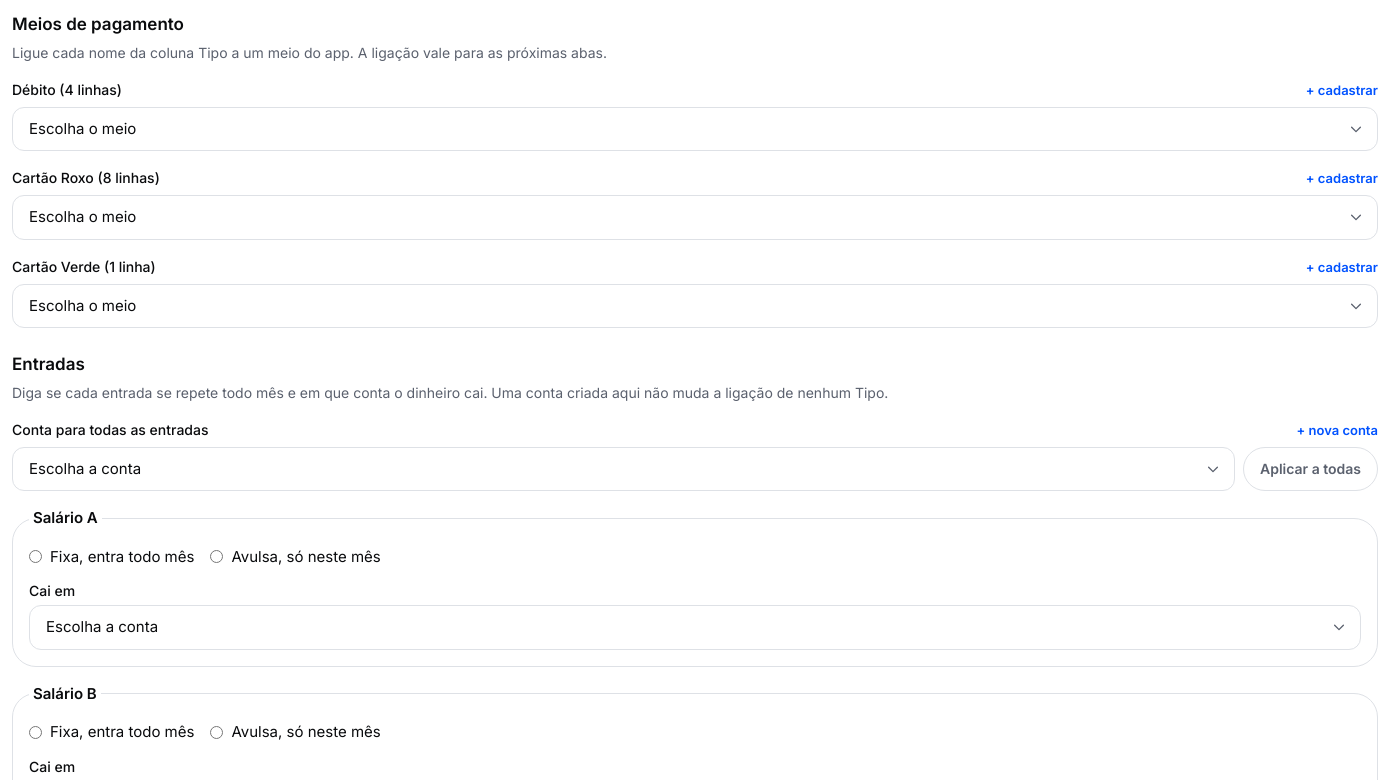
Test: PassoPendencias — cadastrar o meio que falta (IMP-04, AC 2) › "+ cadastrar" abre o cadastro com o nome do "Tipo" preenchido
Click the button "+ cadastrar" in the row of "Débito (4 linhas)". click: (1342, 90)
box: [1306,78,1378,102]
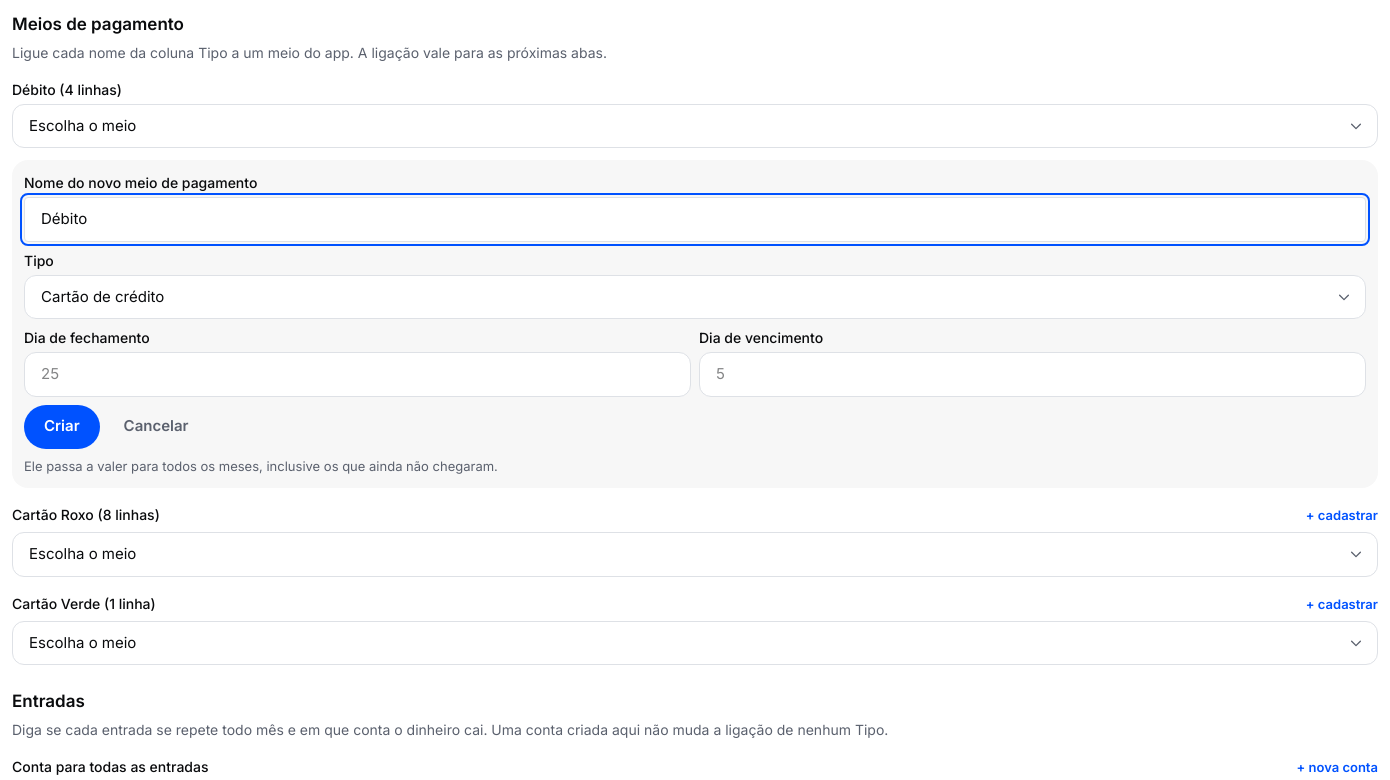
Expected: the field labelled "Nome do novo meio de pagamento" holds "Débito", [24,197,1366,242]
